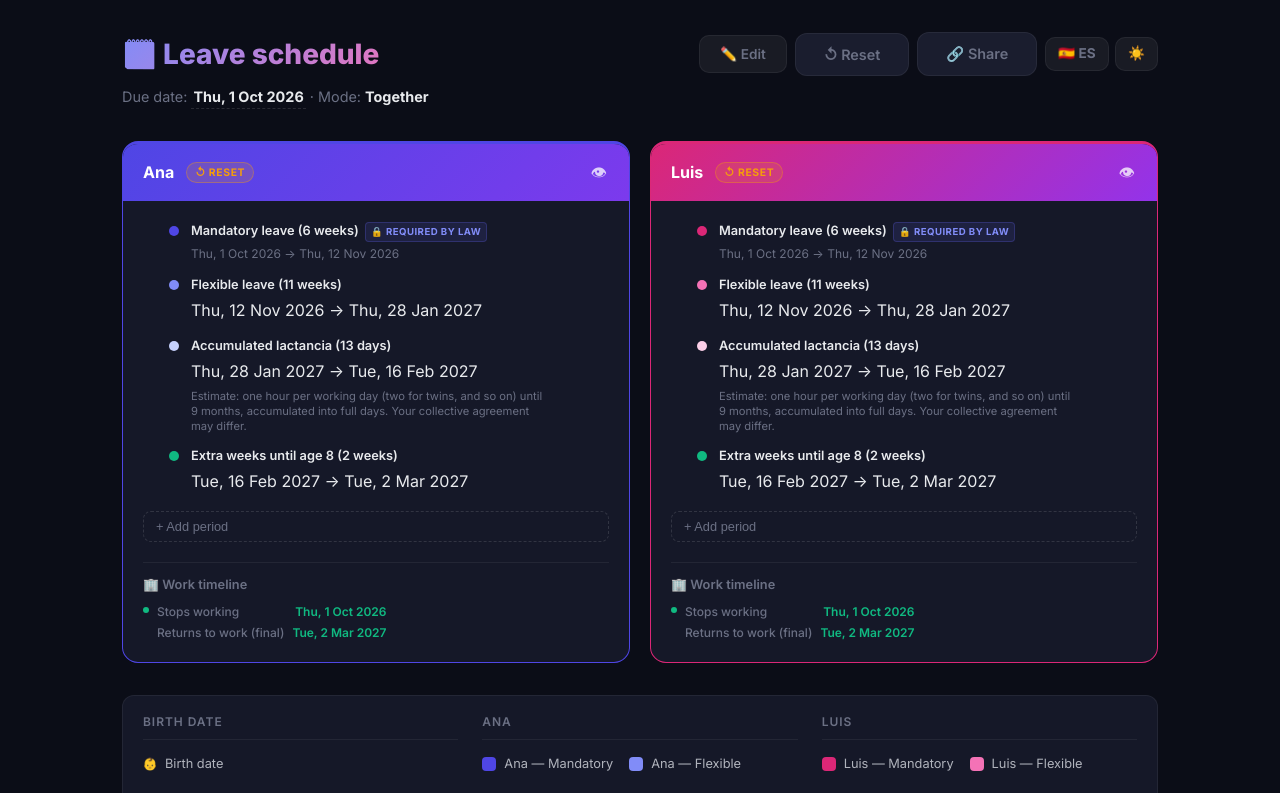
Scenario: CalendarView — the add-extra form › labels its controls for what they do, not for their units
Click the 1st button with test id "add-period-btn" at [192, 526], box [143, 511, 609, 542]
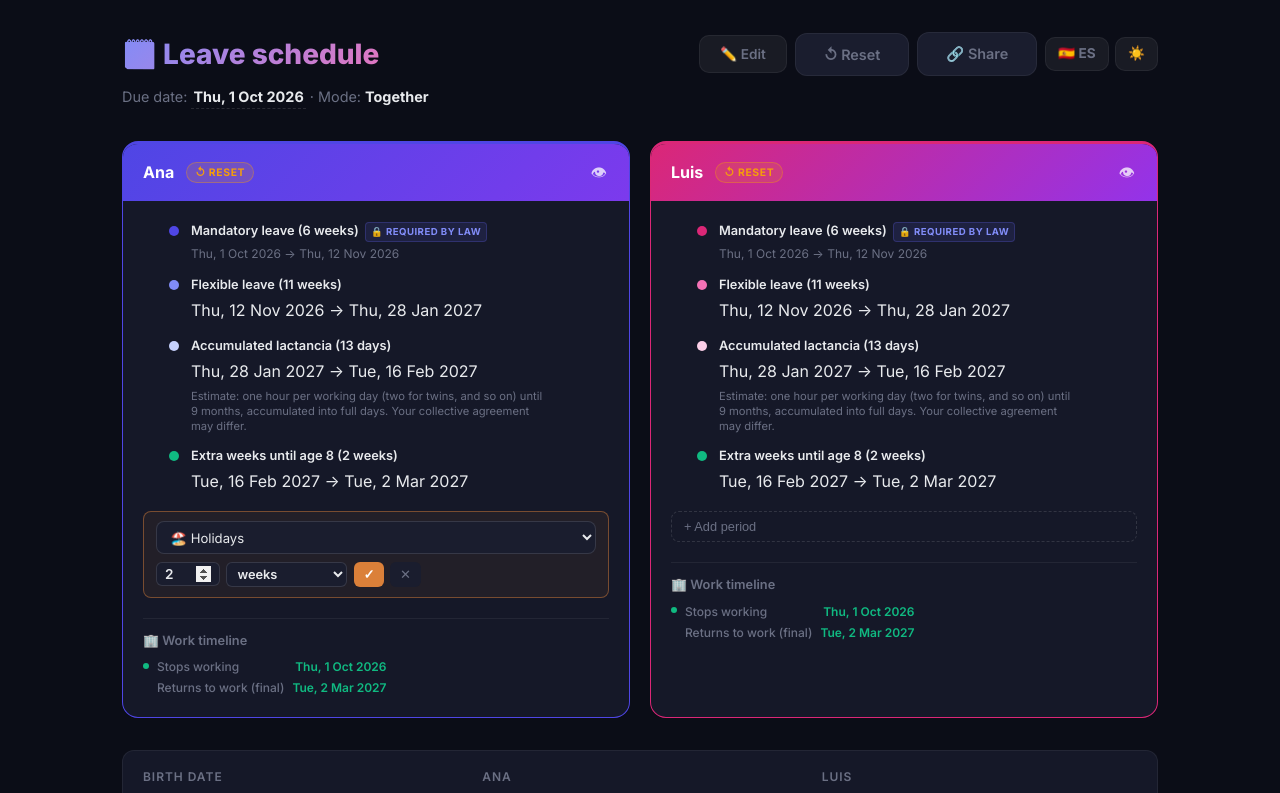
Now the dropdown named "Period type" is shown, box [156, 521, 596, 554]
Now the number field named "Duration" is shown, box [156, 562, 220, 586]
Now the dropdown named "Duration unit" is shown, box [226, 562, 347, 587]
